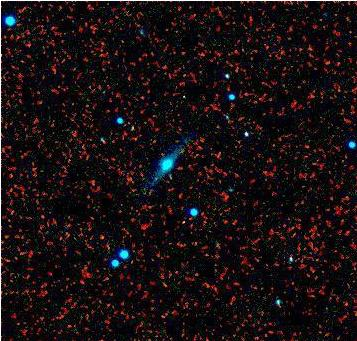star: (153, 166, 183, 196)
